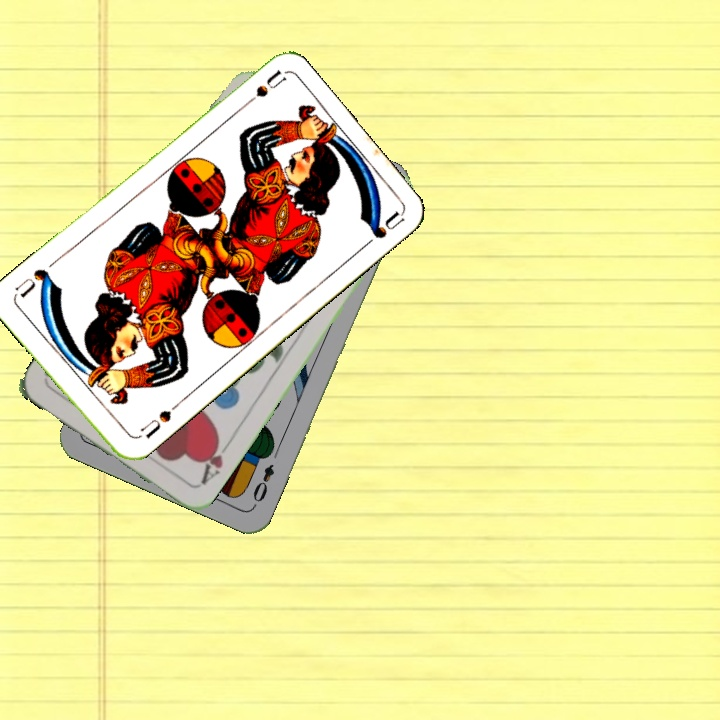EO: (248, 460, 277, 505)
HA: (196, 432, 235, 488)
SU: (235, 67, 287, 113), (136, 398, 182, 441)
